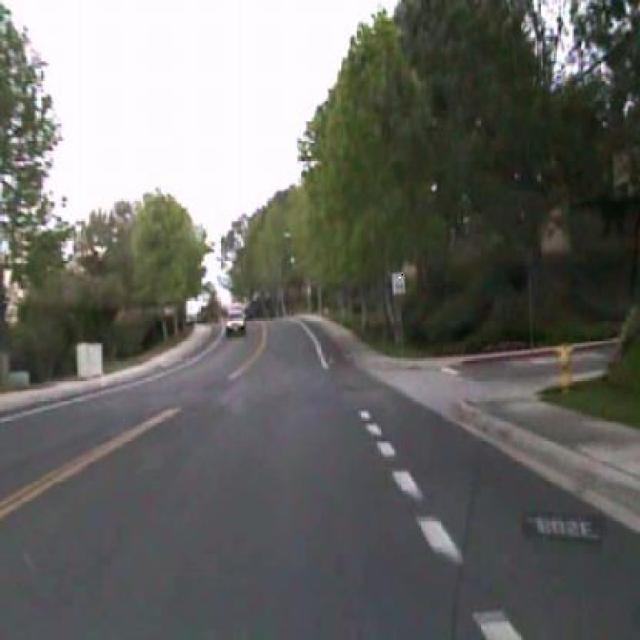speedLimitUrdbl: (391, 269, 406, 295)
